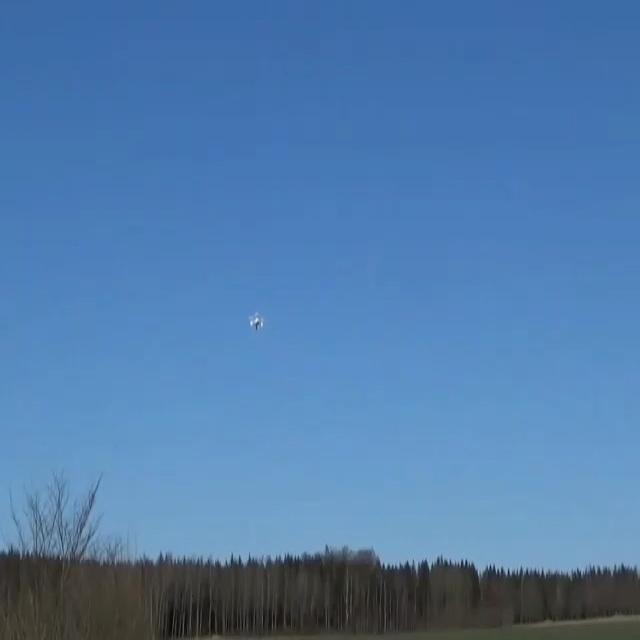drone: (249, 312, 265, 332)
